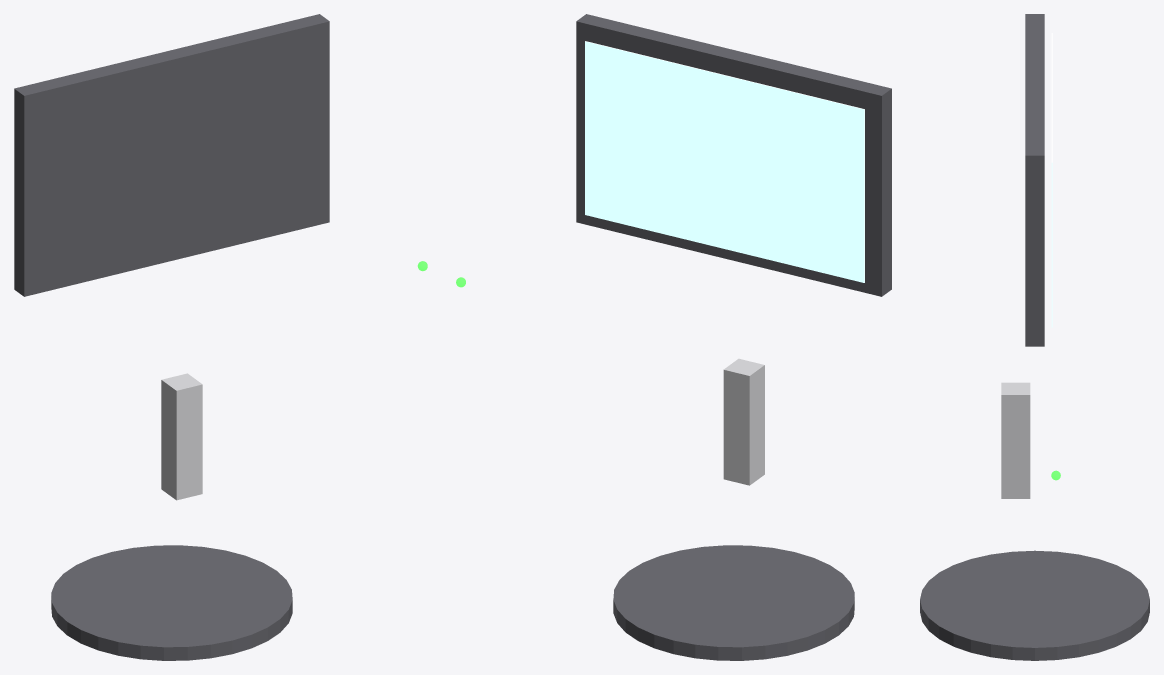
Rendered from clinical_office_monitor.glb.
The picture shows the model from 3 angles, left to right: view 1: azimuth 30°, elevation 25°; view 2: azimuth 150°, elevation 25°; view 3: azimuth 270°, elevation 25°; orthographic projection. The views are drawn at different scales.
Parts seen in each view (by area): view 1: monitor_bezel, monitor_base, monitor_neck; view 2: monitor_screen, monitor_base, monitor_bezel, monitor_neck; view 3: monitor_base, monitor_bezel, monitor_neck, monitor_screen.
Part boxes in pixels (x1,y1,x2,y2): monitor_bezel: (14, 14, 329, 296); monitor_base: (51, 545, 292, 660); monitor_neck: (161, 373, 202, 500); monitor_screen: (585, 41, 864, 282); monitor_base: (613, 545, 854, 660); monitor_bezel: (576, 14, 891, 296); monitor_neck: (723, 358, 764, 485); monitor_base: (920, 550, 1149, 660); monitor_bezel: (1025, 14, 1044, 346); monitor_neck: (1001, 382, 1030, 498); monitor_screen: (1051, 33, 1052, 327).
Size of the model in its own units: 0.48 by 0.6075 by 0.24.
